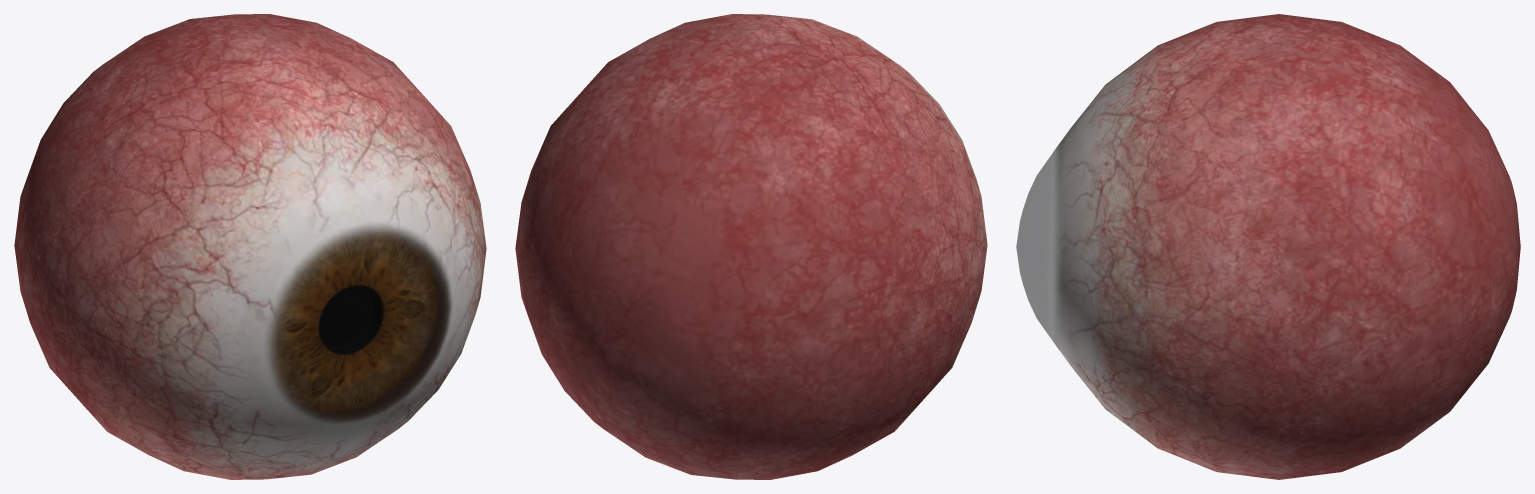
The model's file is eye-brown.glb.
The picture shows the model from 3 angles, left to right: view 1: azimuth 30°, elevation 25°; view 2: azimuth 150°, elevation 25°; view 3: azimuth 270°, elevation 25°; orthographic projection.
Visible parts, largest first — view 1: low; view 2: low; view 3: low.
Boxes of the visible parts, bbox=[...] form: low: bbox=[14, 14, 486, 479]; low: bbox=[515, 14, 987, 479]; low: bbox=[1016, 14, 1520, 479].
Bounding box in the file's own units: 1.85 × 1.85 × 2.
Materials: 1 (1 with a texture image).
